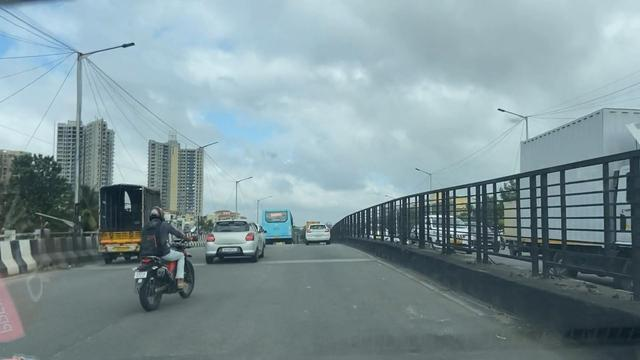HMV: (95, 173, 170, 280), (259, 198, 305, 249)
LMV: (122, 203, 206, 325), (199, 211, 274, 274), (302, 219, 335, 248)
